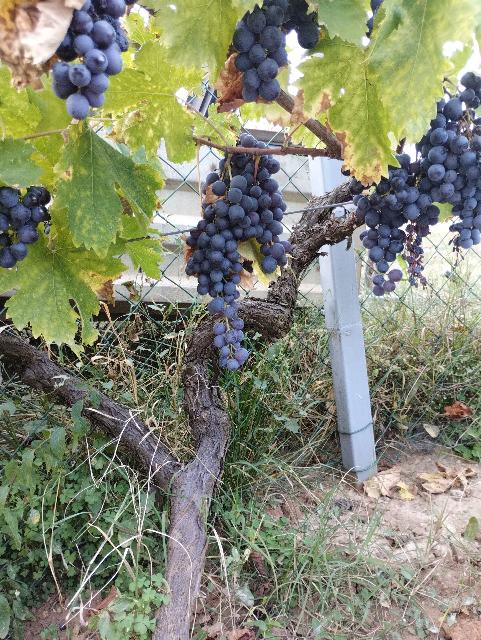grapes: (186, 154, 260, 370), (351, 154, 440, 296), (220, 152, 291, 274)
